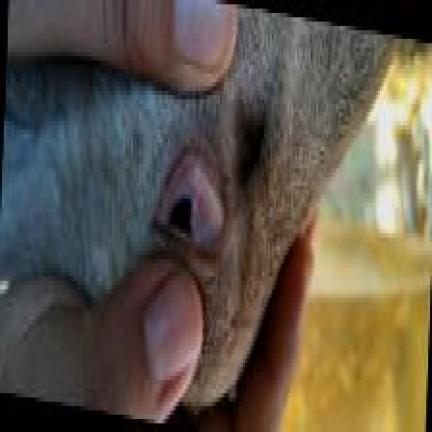goat-eye-anemia-22222222: (152, 134, 237, 289)
